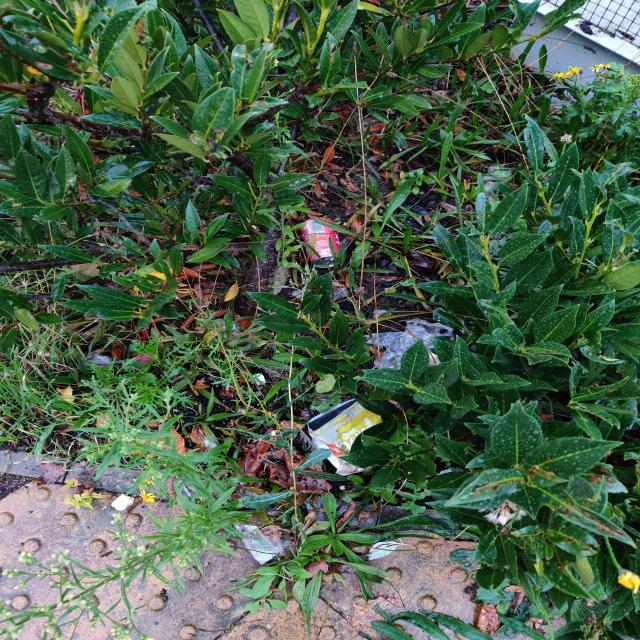litter: (296, 207, 356, 274)
